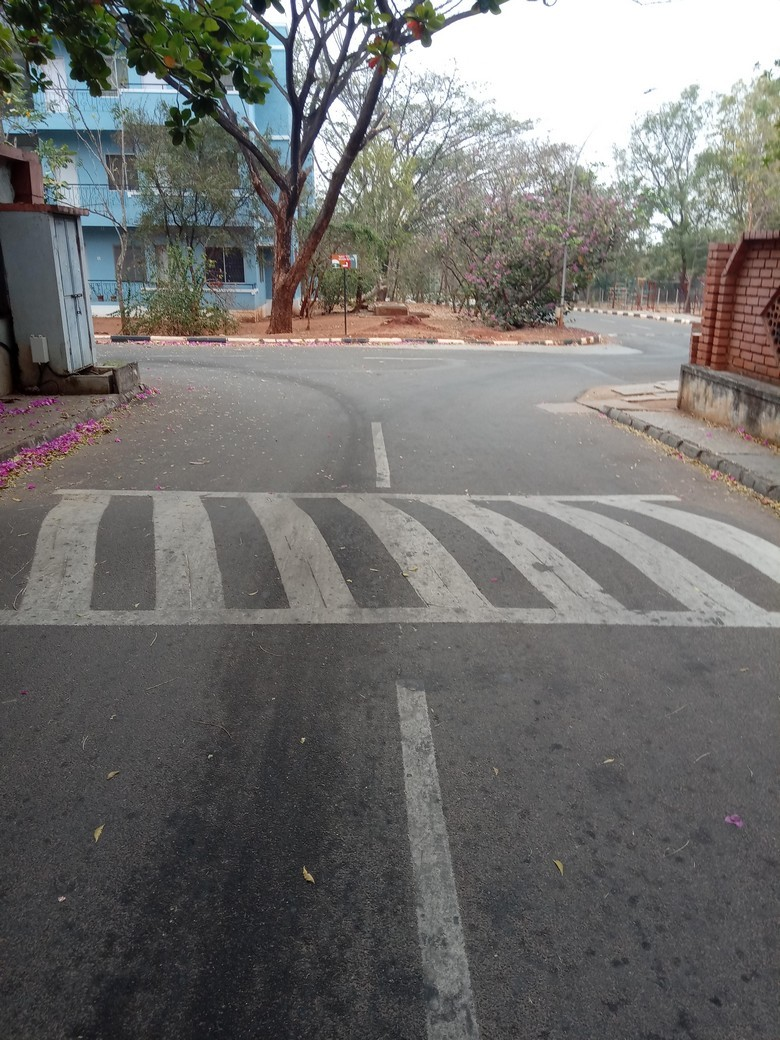bump: (1, 491, 780, 626)
